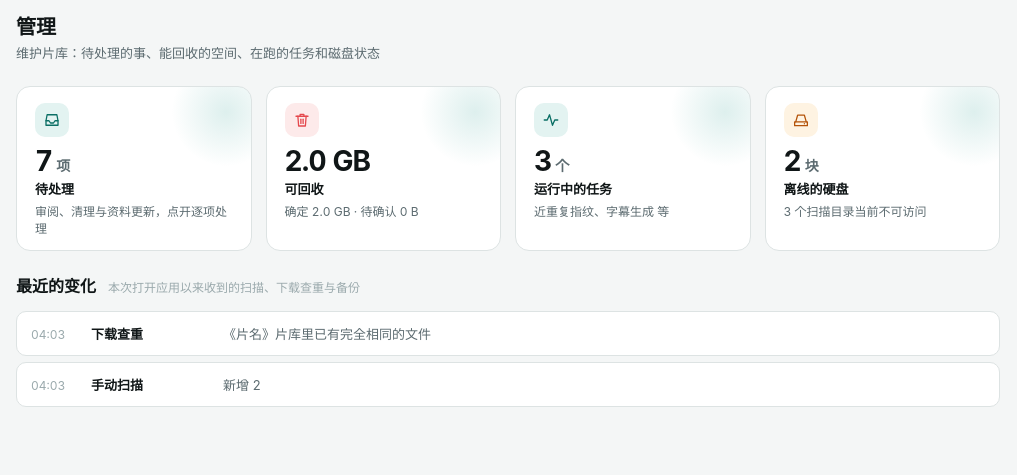
it: ManageHomePage › lists only changes received this session, newest first, and navigates from them
Check: the button with test id "manage-change" shows "新增 2", box [16,362,1000,406]
Click the button with test id "manage-change" showing "04:03 下载查重 《片名》片库里已有完全相同的文件". click: (48,334)
box: [16,310,1000,356]
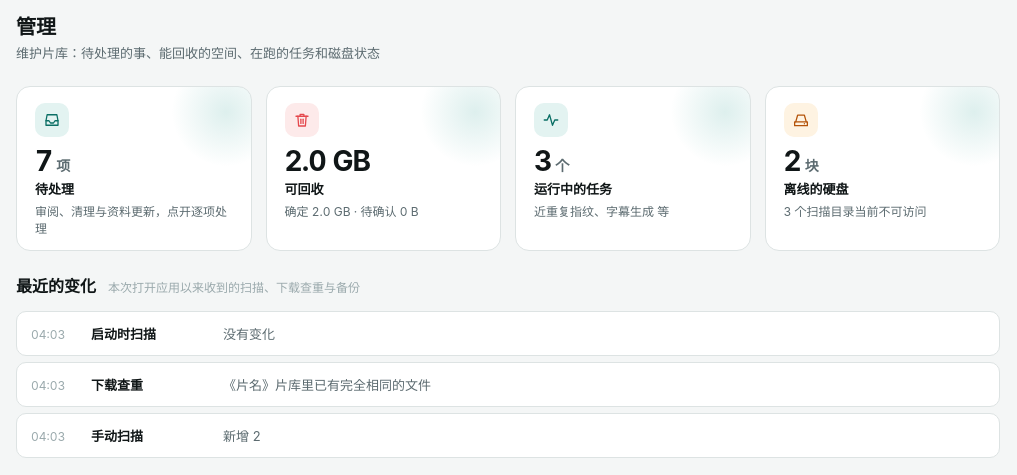
Check: the number of buttons with test id "manage-change" is 3, box [16,310,1000,356]; [16,362,1000,406]; [16,412,1000,458]
